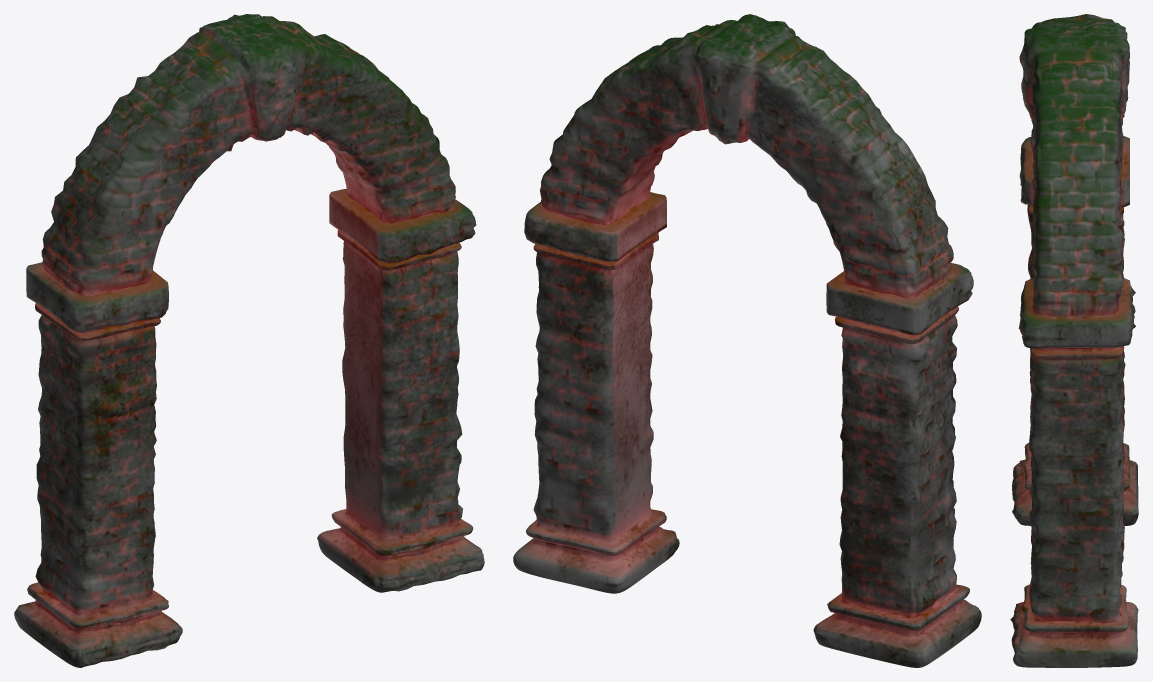
The model's file is energy_arch.glb.
3 renders of one model, left to right at view 1: azimuth 30°, elevation 25°; view 2: azimuth 150°, elevation 25°; view 3: azimuth 270°, elevation 25°, orthographic. The views are drawn at different scales.
Visible parts, largest first — view 1: pCube3; view 2: pCube3; view 3: pCube3.
Boxes of the visible parts, x1,y1,x2,y2 form: pCube3: (14,14,484,667); pCube3: (513,14,981,667); pCube3: (1010,14,1138,667).
Bounding box in the file's own units: 1.53 × 2 × 0.4305.
Materials: 1 (1 with a texture image).
